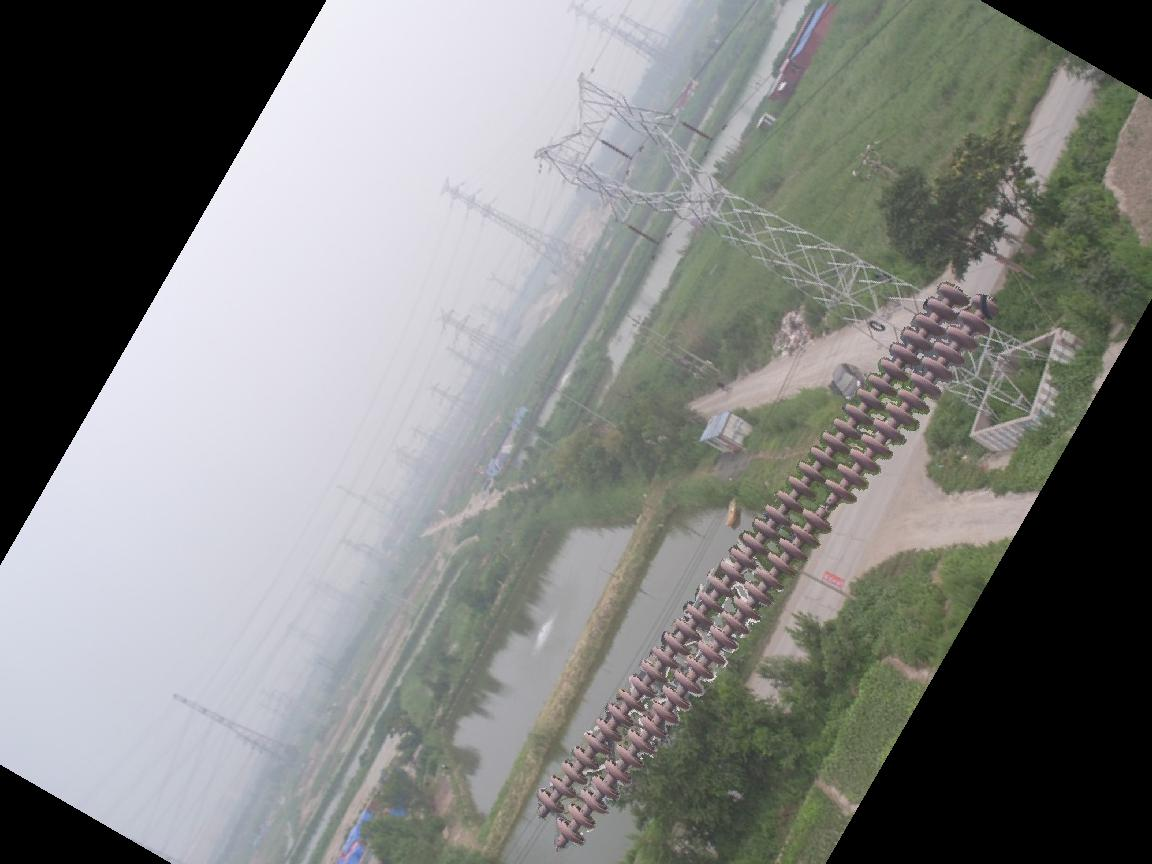insulator: (533, 275, 1000, 847)
insulator_stringdrop: (799, 477, 858, 535)
